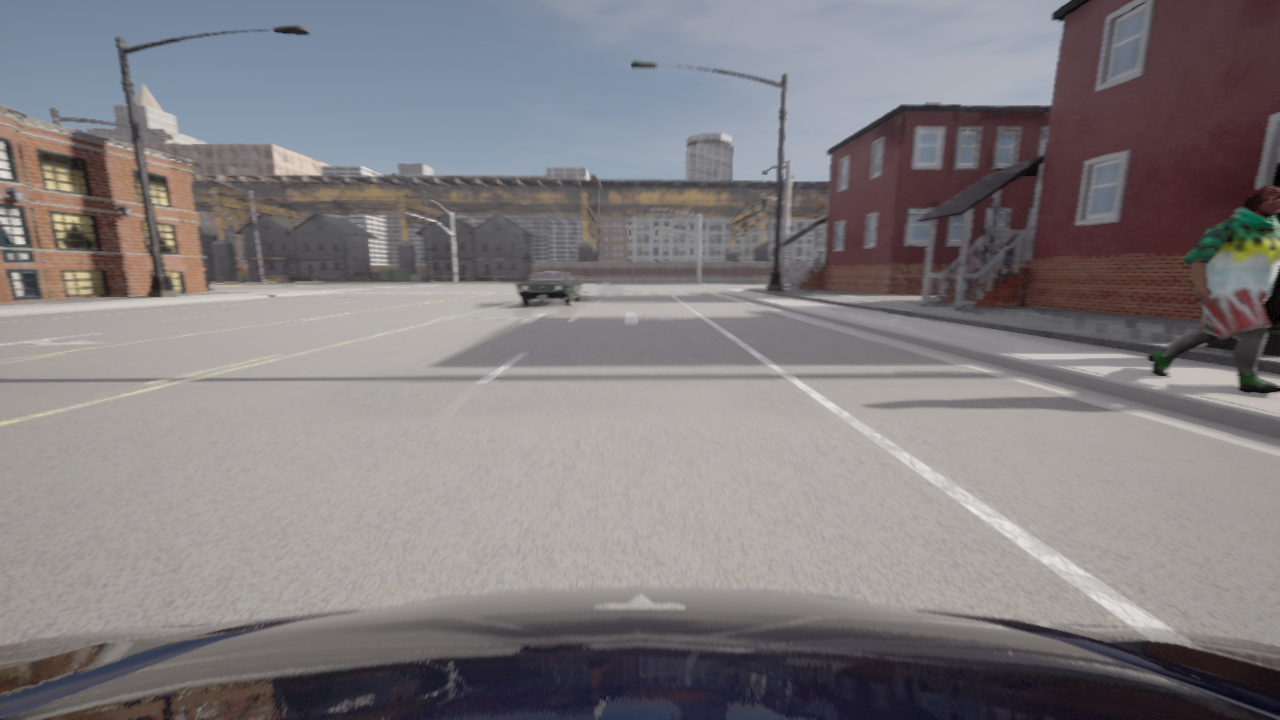cyclist: (0, 588, 1279, 719), (517, 271, 581, 305)
pedestrian: (1147, 186, 1279, 393)
